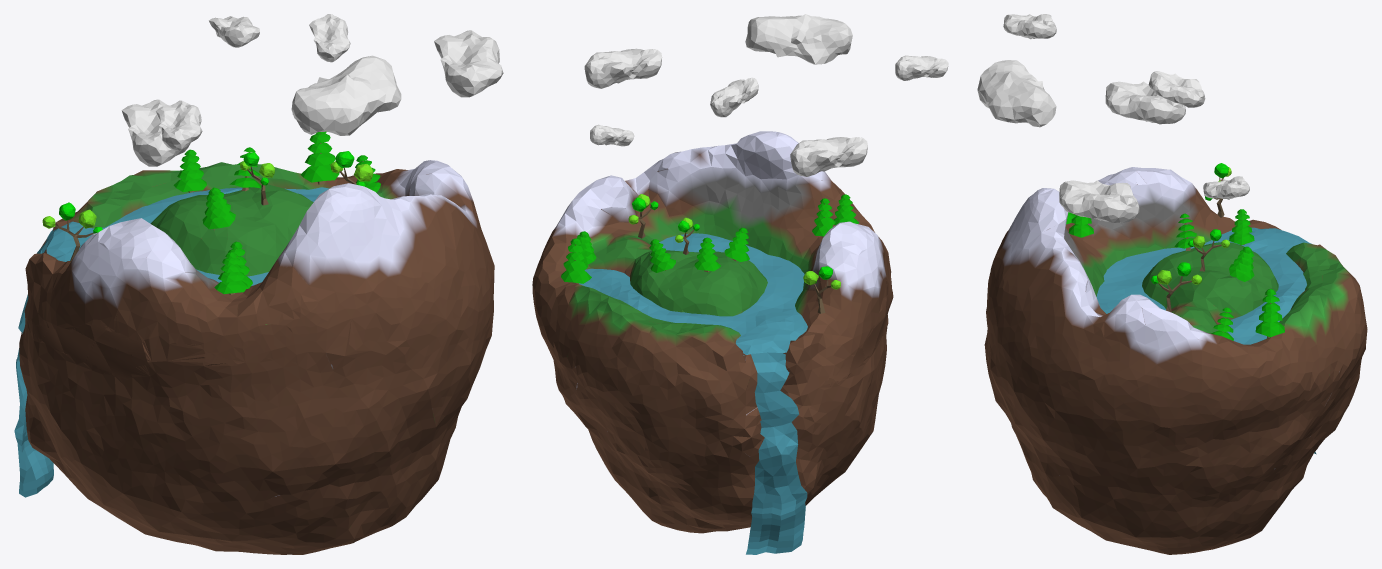
The model's file is Island (1).fbx.
3 renders of one model, left to right at view 1: azimuth 30°, elevation 25°; view 2: azimuth 150°, elevation 25°; view 3: azimuth 270°, elevation 25°, orthographic. The views are drawn at different scales.
Parts seen in each view (by area): view 1: trees .006, trees .067, trees, trees .064, trees .066, trees .068, trees .065, trees .034, trees .069, trees .007, trees .052, trees .012 (+3 smaller); view 2: trees .006, trees, trees .067, trees .066, trees .064, trees .069, trees .068, trees .034, trees .065, trees .007, trees .040, trees .051 (+3 smaller); view 3: trees .006, trees, trees .067, trees .064, trees .066, trees .069, trees .068, trees .034, trees .065, trees .028, trees .040, trees .051 (+1 smaller).
Boxes of the visible parts, x1,y1,x2,y2 form: trees .006: (19, 160, 494, 554); trees .067: (291, 55, 401, 135); trees: (14, 187, 329, 497); trees .064: (434, 30, 503, 97); trees .066: (121, 99, 190, 166); trees .068: (156, 100, 202, 150); trees .065: (309, 14, 350, 62); trees .034: (300, 131, 339, 184); trees .069: (209, 16, 259, 47); trees .007: (42, 202, 102, 262); trees .052: (202, 187, 235, 229); trees .012: (214, 251, 247, 294); trees .006: (532, 131, 893, 533); trees: (579, 233, 807, 554); trees .067: (745, 14, 852, 64); trees .066: (790, 137, 867, 176); trees .064: (584, 48, 662, 88); trees .069: (710, 77, 758, 117); trees .068: (895, 55, 948, 80); trees .034: (561, 238, 591, 283); trees .065: (590, 124, 634, 146); trees .007: (803, 266, 840, 313); trees .040: (649, 239, 675, 272); trees .051: (694, 237, 720, 272); trees .006: (984, 167, 1367, 554); trees: (1096, 227, 1316, 454); trees .067: (977, 60, 1056, 127); trees .064: (1059, 180, 1139, 222); trees .066: (1105, 81, 1185, 124); trees .069: (1148, 71, 1205, 107); trees .068: (1003, 14, 1056, 39); trees .034: (1255, 289, 1284, 337); trees .065: (1203, 176, 1249, 199); trees .028: (1150, 262, 1201, 312); trees .040: (1229, 246, 1254, 281); trees .051: (1229, 209, 1254, 244).
Size of the model in its own units: 1840 by 2430 by 1890.
10 materials, 2 textured.
